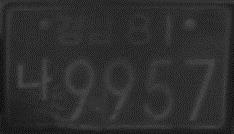1: (161, 9, 177, 52)
5: (138, 55, 177, 124)
7: (180, 56, 217, 123)
8: (122, 9, 153, 49)
9: (99, 57, 136, 124), (60, 57, 96, 124)
경남_O: (51, 9, 114, 49)
나: (14, 56, 54, 103)
